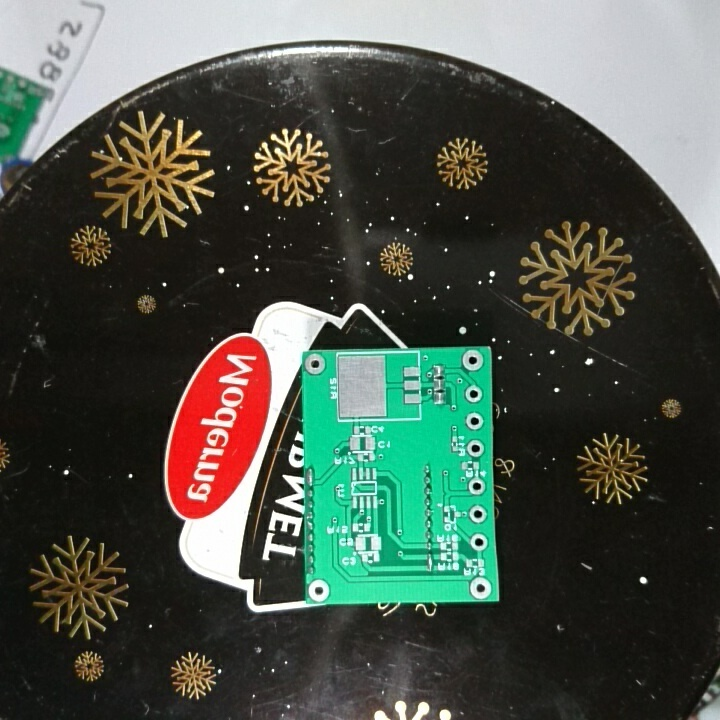F: (460, 349, 485, 374), (468, 575, 493, 600), (307, 578, 332, 603), (302, 352, 328, 375), (463, 383, 485, 405), (464, 410, 484, 433), (467, 476, 487, 497), (468, 503, 488, 524), (466, 438, 485, 460), (469, 532, 488, 553)
P: (425, 550, 437, 572), (306, 466, 317, 487)
